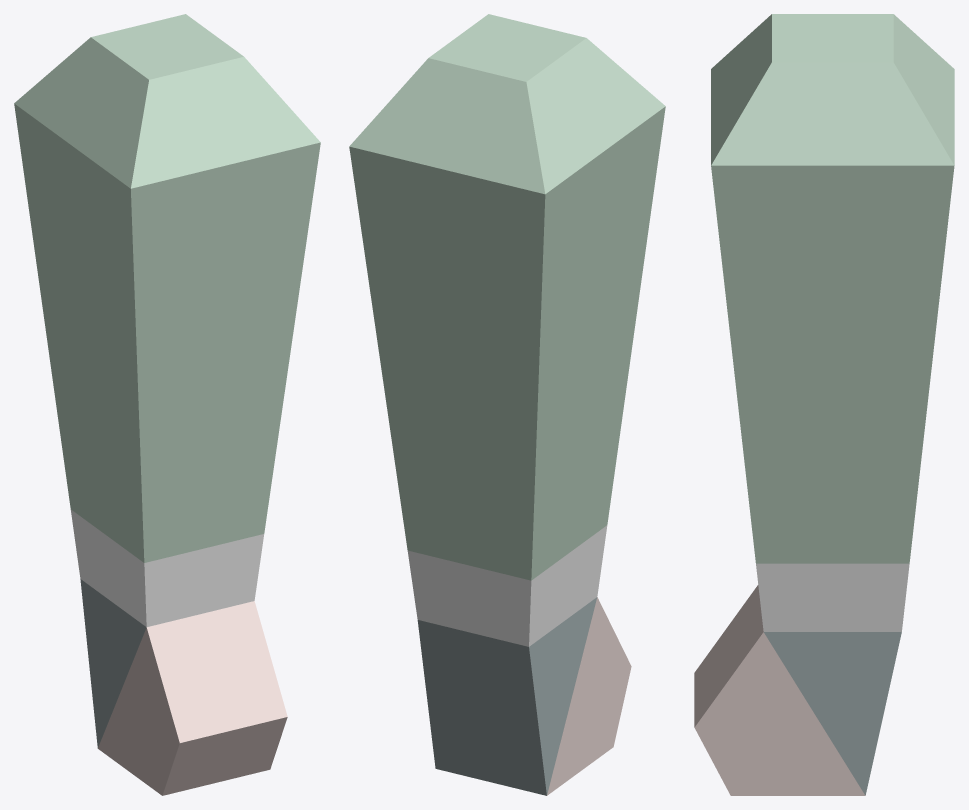
File: SurvivorLowerArm.fbx
3 views of the same model, side by side, from view 1: azimuth 30°, elevation 25°; view 2: azimuth 150°, elevation 25°; view 3: azimuth 270°, elevation 25° (orthographic). The views are drawn at different scales.
Visible parts, largest first — view 1: SurvivorLowerArm; view 2: SurvivorLowerArm; view 3: SurvivorLowerArm.
Part boxes in pixels (x1=…): SurvivorLowerArm: x1=14, y1=14, x2=320, y2=795; SurvivorLowerArm: x1=349, y1=14, x2=665, y2=795; SurvivorLowerArm: x1=694, y1=14, x2=954, y2=795.
Size of the model in its own units: 0.1568 by 0.552 by 0.1781.
